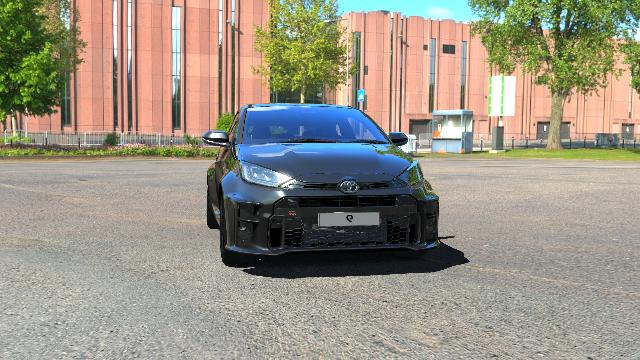License Plate: (319, 211, 379, 229)
